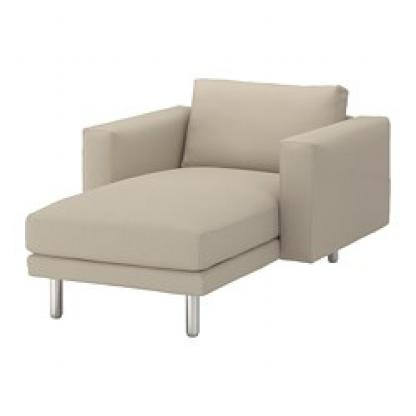Sofa: (18, 27, 403, 351)
